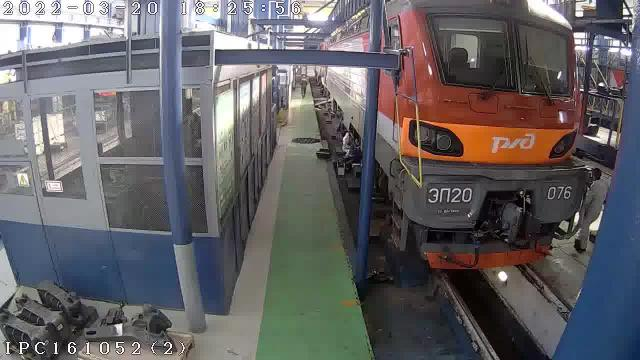person: (574, 168, 608, 252), (342, 131, 352, 157), (301, 75, 307, 97)
train: (375, 0, 589, 268)
